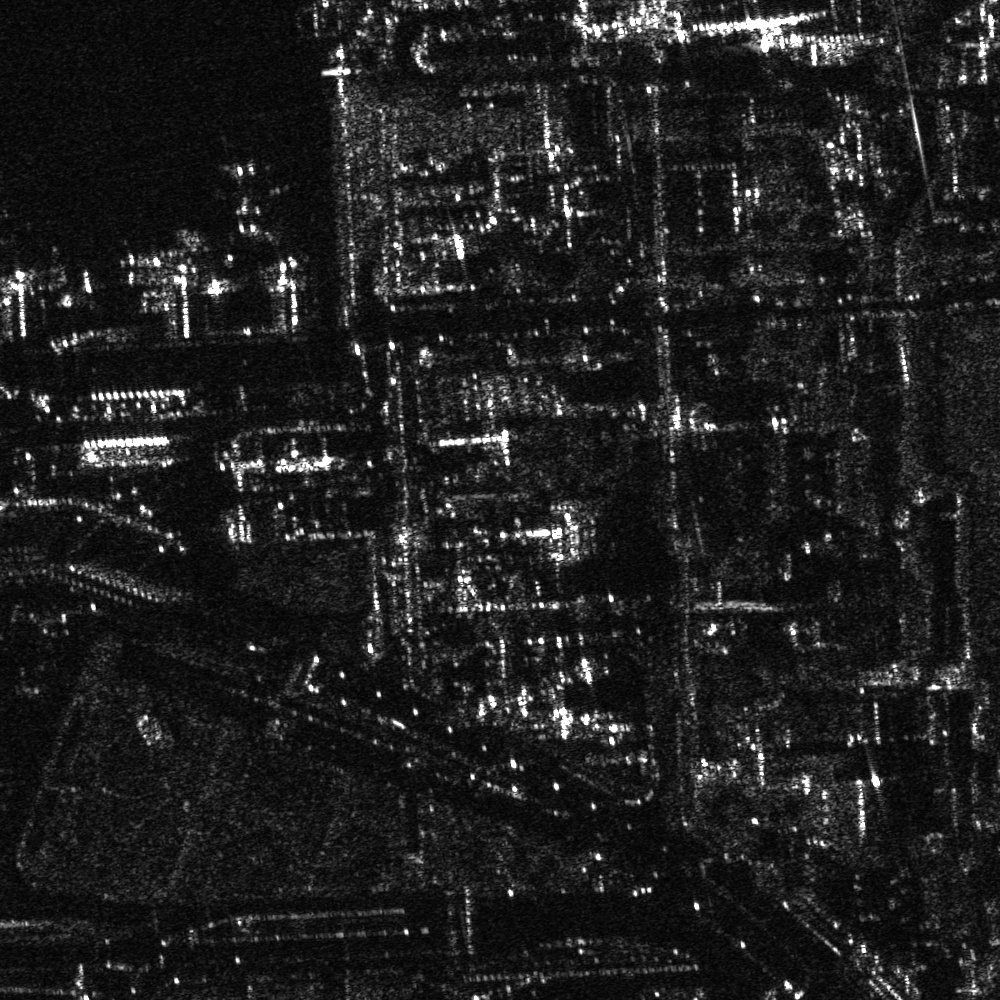A220: (205, 159, 297, 244)
